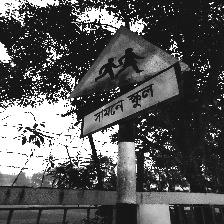School-in-front: (68, 27, 190, 137)
